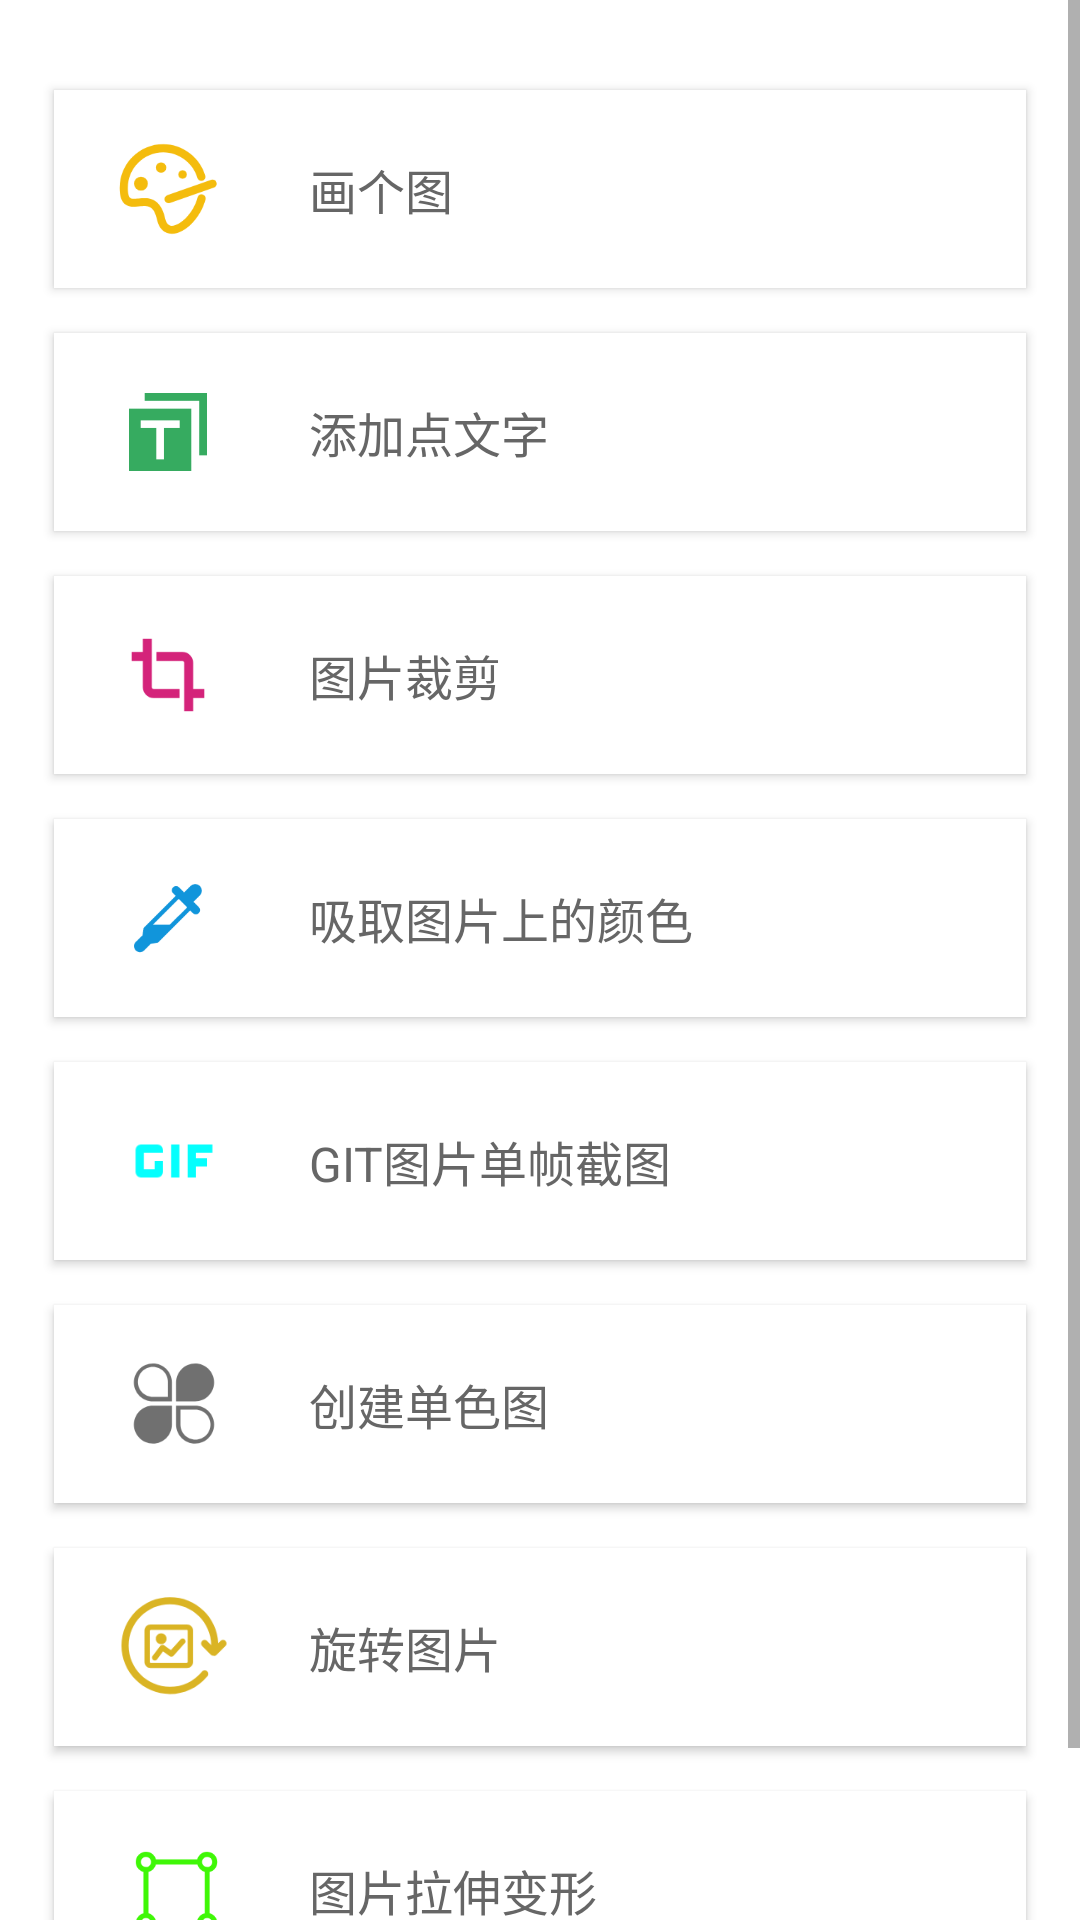

Where to tap for icons on this 1080 × 1920 app screen, as [x,y]:
edit absorb: [168,918]
edit canvas: [168,189]
edit clip: [168,675]
edit rotation: [174,1646]
edit text: [168,432]
